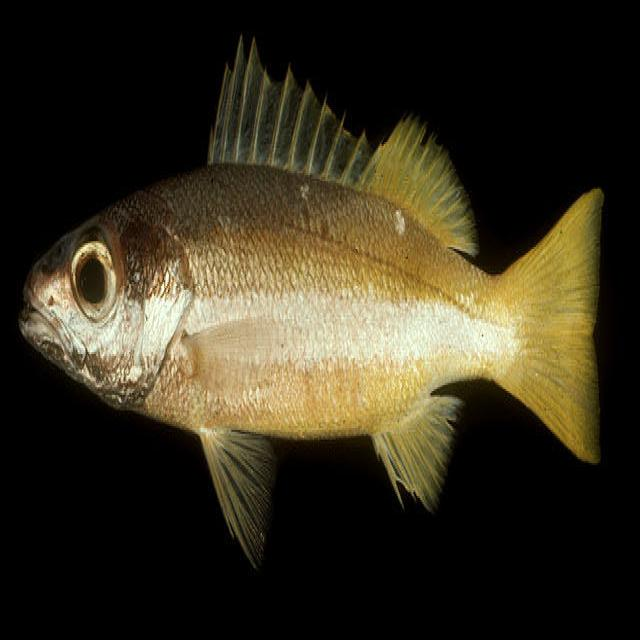ikan: (17, 31, 605, 572)
